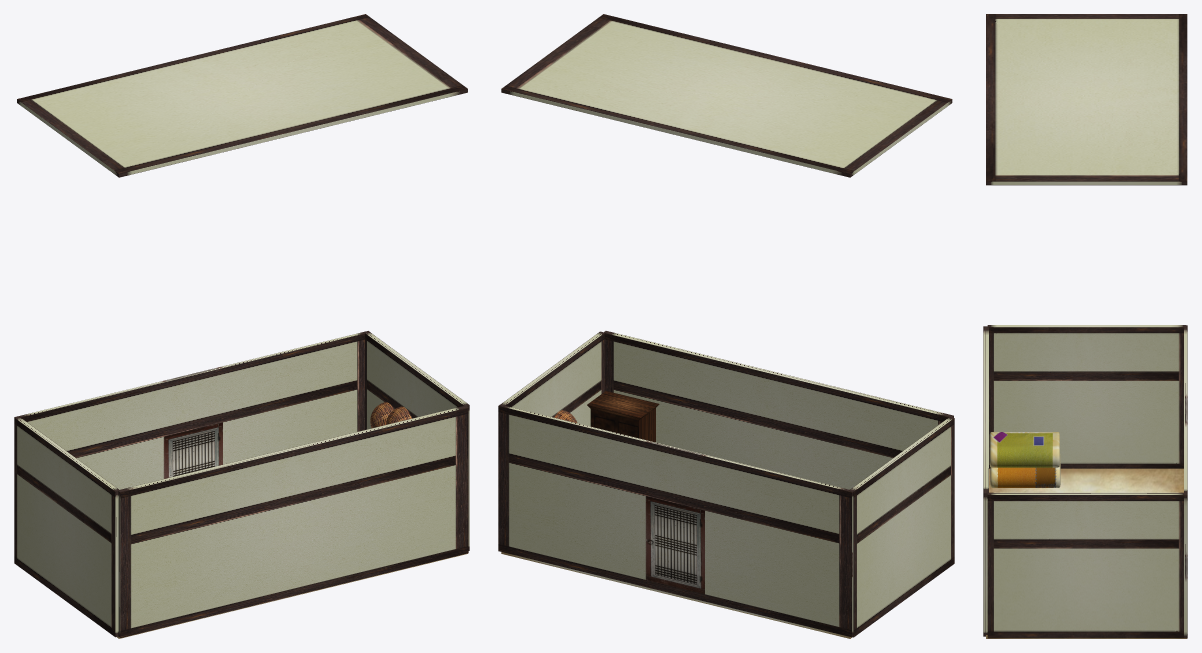
The model's file is house2.FBX.
3 views of the same model, side by side, from view 1: azimuth 30°, elevation 25°; view 2: azimuth 150°, elevation 25°; view 3: azimuth 270°, elevation 25° (orthographic).
Visible parts, largest first — view 1: Box005, Box013; view 2: Box005, Box013, Box008; view 3: Box005, Box013, Box004, Box003.
Boxes of the visible parts, x1,y1,x2,y2 form: Box005: [14, 331, 469, 638]; Box013: [17, 14, 467, 177]; Box005: [498, 331, 954, 638]; Box013: [501, 14, 952, 177]; Box008: [587, 391, 659, 442]; Box005: [983, 325, 1187, 638]; Box013: [986, 14, 1187, 185]; Box004: [989, 432, 1059, 467]; Box003: [990, 454, 1060, 487].
Bounding box in the file's own units: 272 × 341 × 138.
